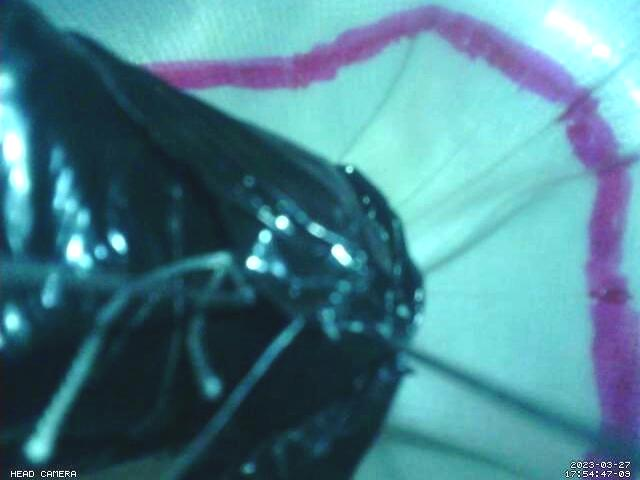red-circle: (145, 2, 640, 479)
